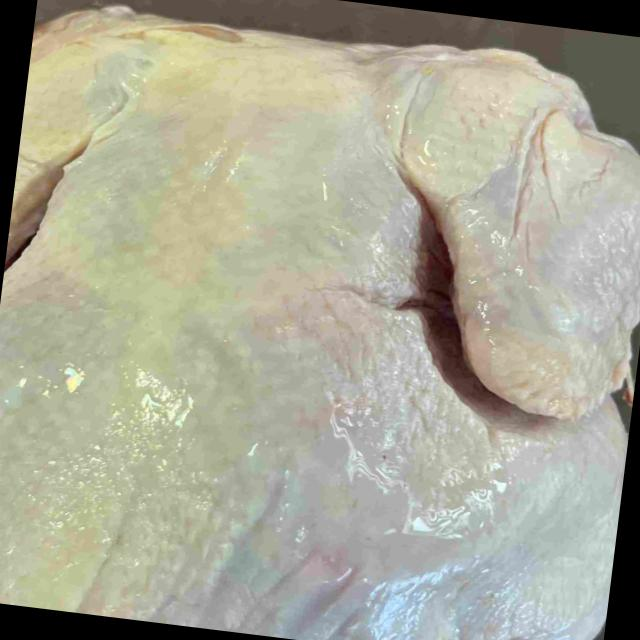back: (0, 131, 456, 640)
leg: (465, 444, 623, 640)
wing: (396, 50, 640, 424), (4, 17, 138, 265)
